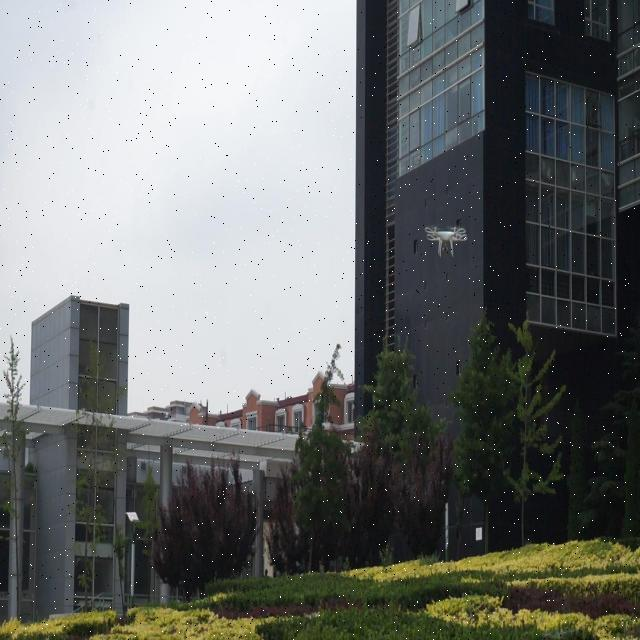UAV: (424, 226, 468, 257)
